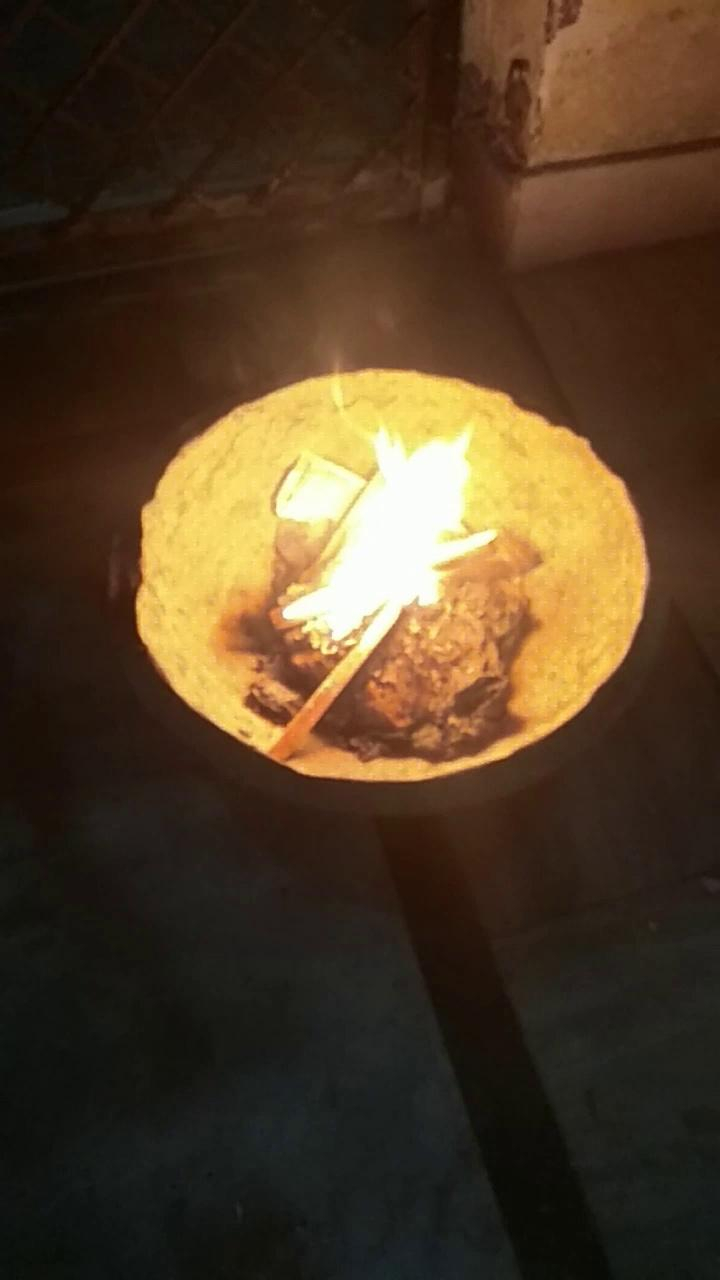fire: (258, 384, 490, 666)
